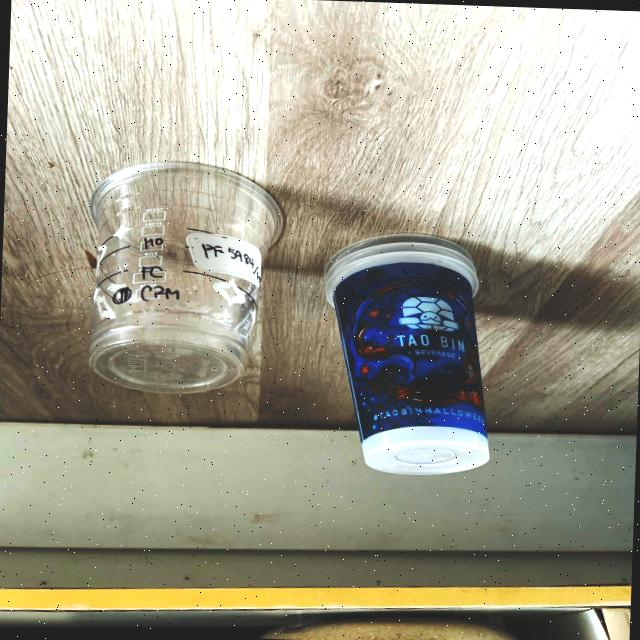Plastic Cup: (89, 162, 282, 393), (325, 235, 489, 474)
